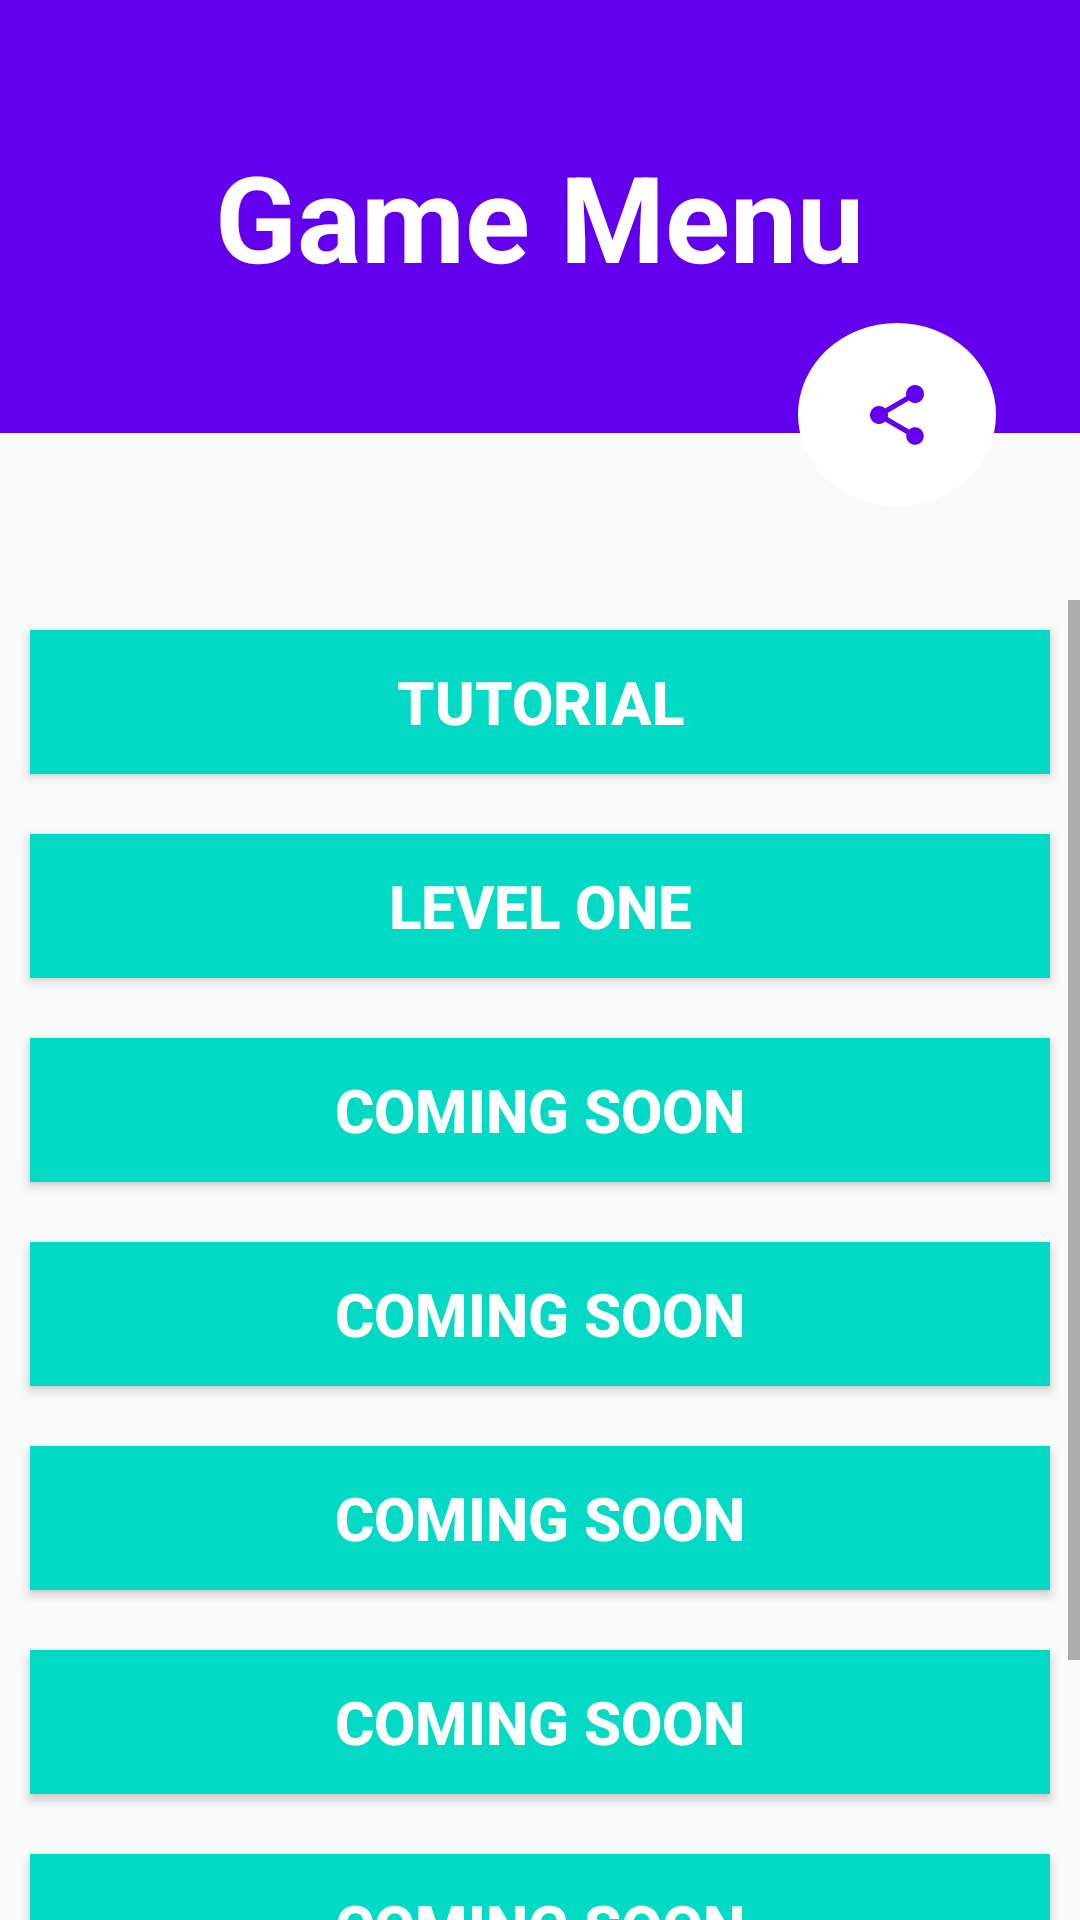

Icons on this 1080px x 1920px Android screen, each with the point to tap as (x,y):
share: (897,414)
